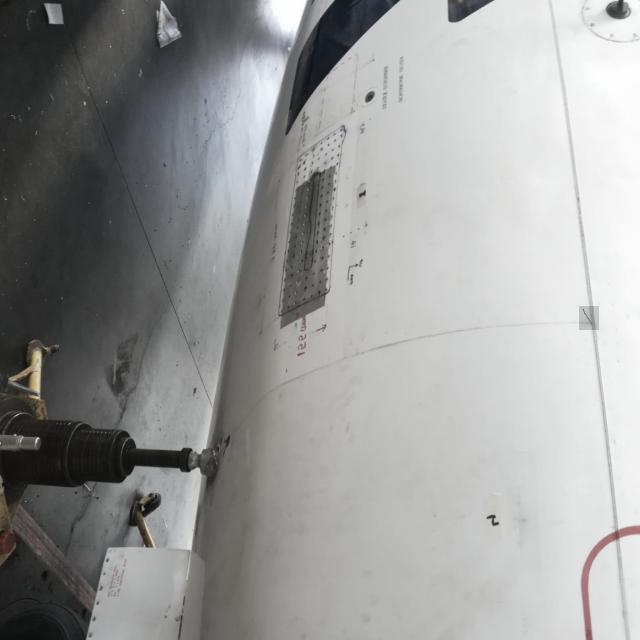crack: (580, 307, 600, 331)
